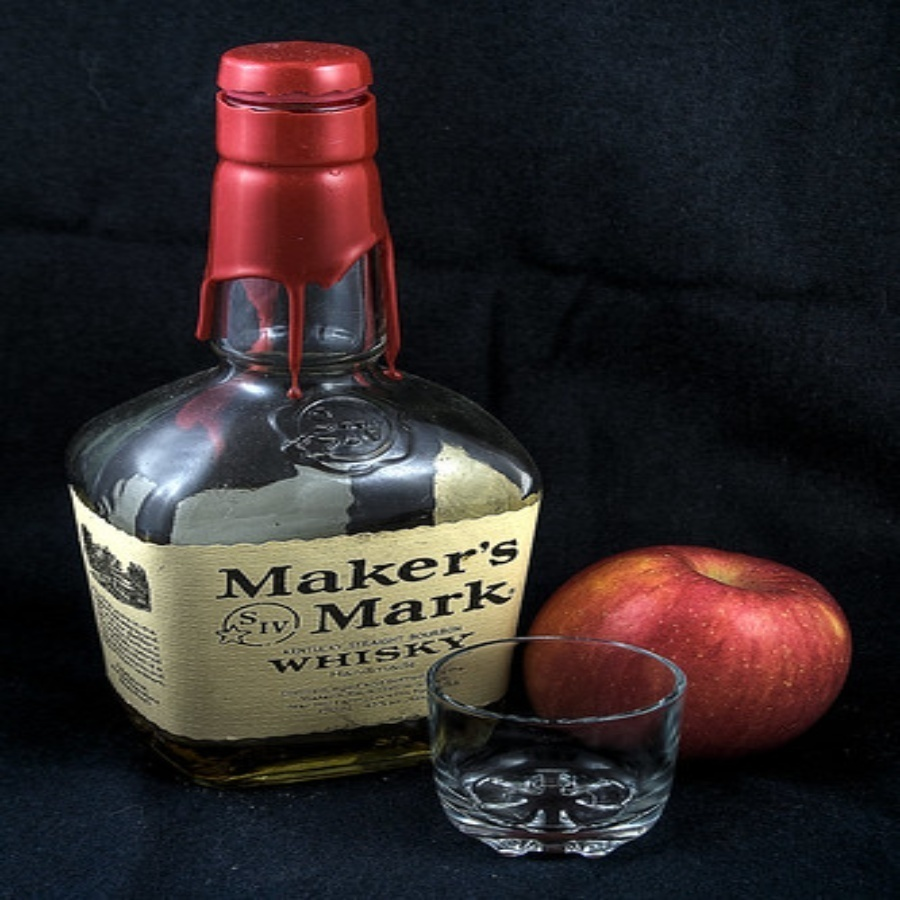whiskey: (413, 629, 690, 870)
